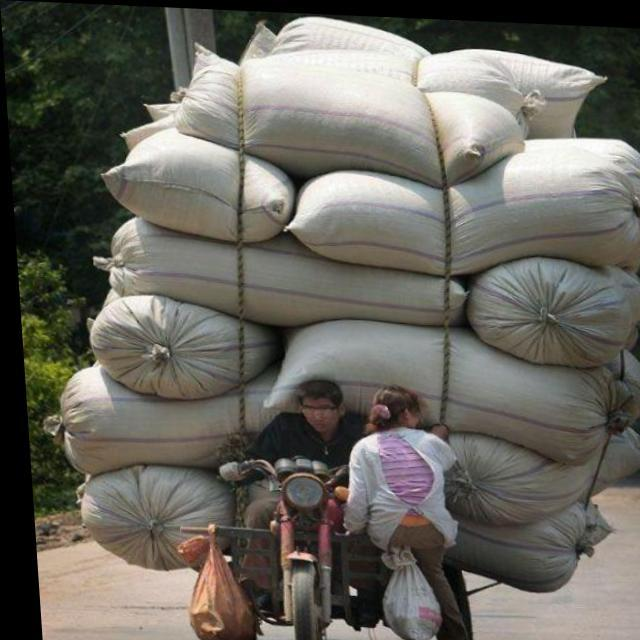covered: (87, 17, 640, 618)
